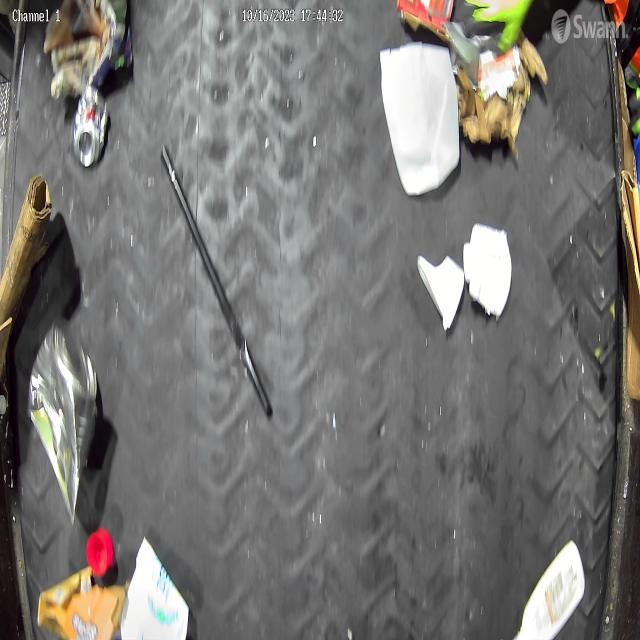can: (25, 322, 99, 525), (67, 78, 114, 172)
milk_jug: (382, 48, 456, 189)
plastic_bottle: (512, 541, 585, 640)
